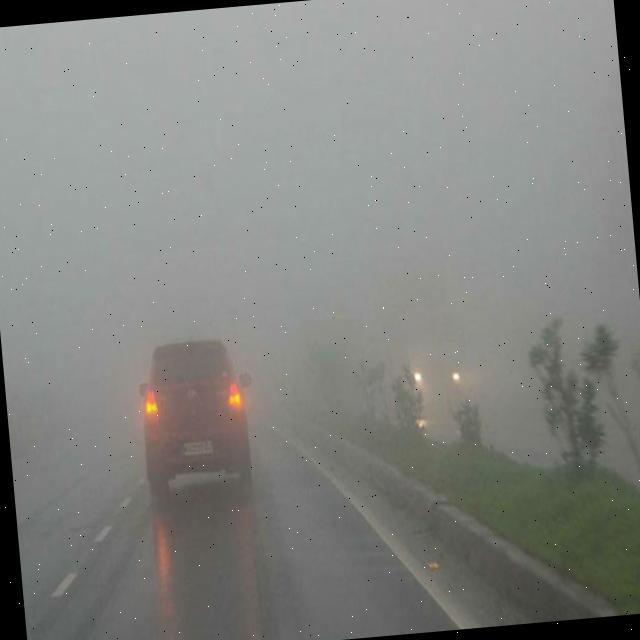bus: (378, 275, 472, 426)
car: (132, 334, 256, 507)
